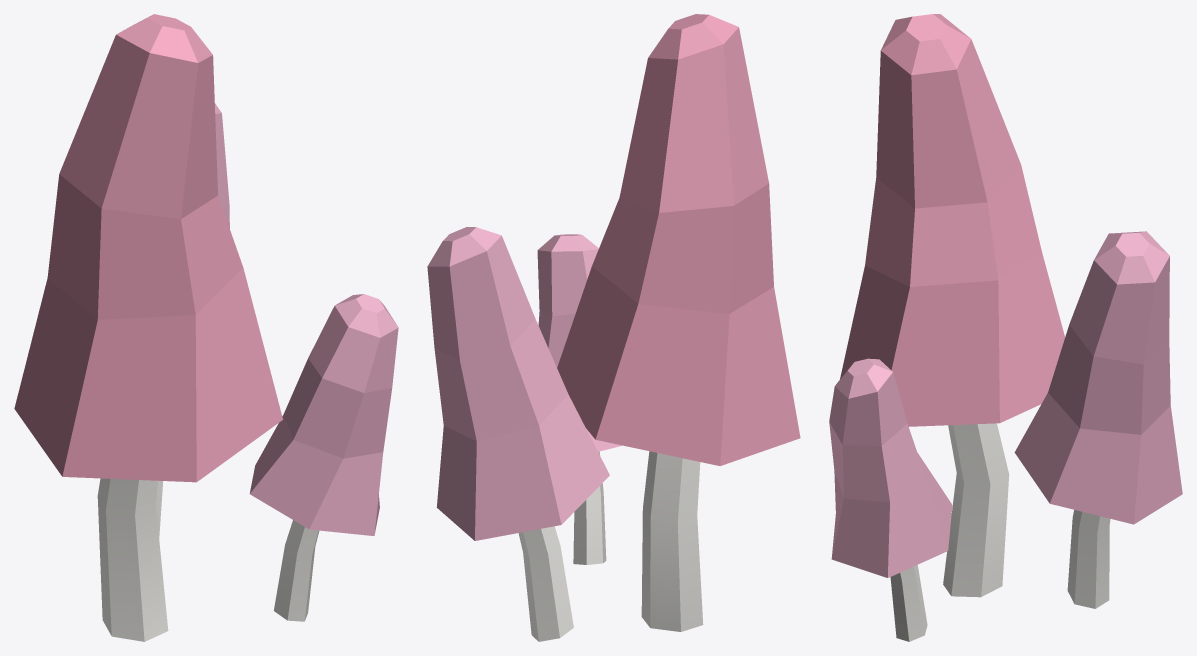
The model's file is Plants_Pack_Mushroom_part_01.005.fbx.
3 views of the same model, side by side, from view 1: azimuth 30°, elevation 25°; view 2: azimuth 150°, elevation 25°; view 3: azimuth 270°, elevation 25° (orthographic). The views are drawn at different scales.
Visible parts, largest first — view 1: Plants_Pack_Mushroom_part_01.005; view 2: Plants_Pack_Mushroom_part_01.005; view 3: Plants_Pack_Mushroom_part_01.005.
Part boxes in pixels (x1,y1,x2,y2): Plants_Pack_Mushroom_part_01.005: (14,14,398,641); Plants_Pack_Mushroom_part_01.005: (427,14,800,641); Plants_Pack_Mushroom_part_01.005: (829,14,1182,641).
Size of the model in its own units: 19.47 by 38.66 by 21.76.
